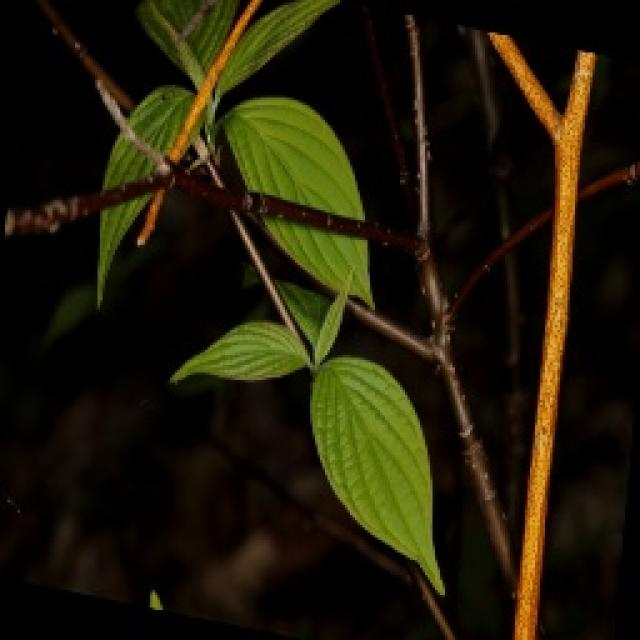Golden_canker: (472, 30, 606, 618), (90, 0, 316, 338)
